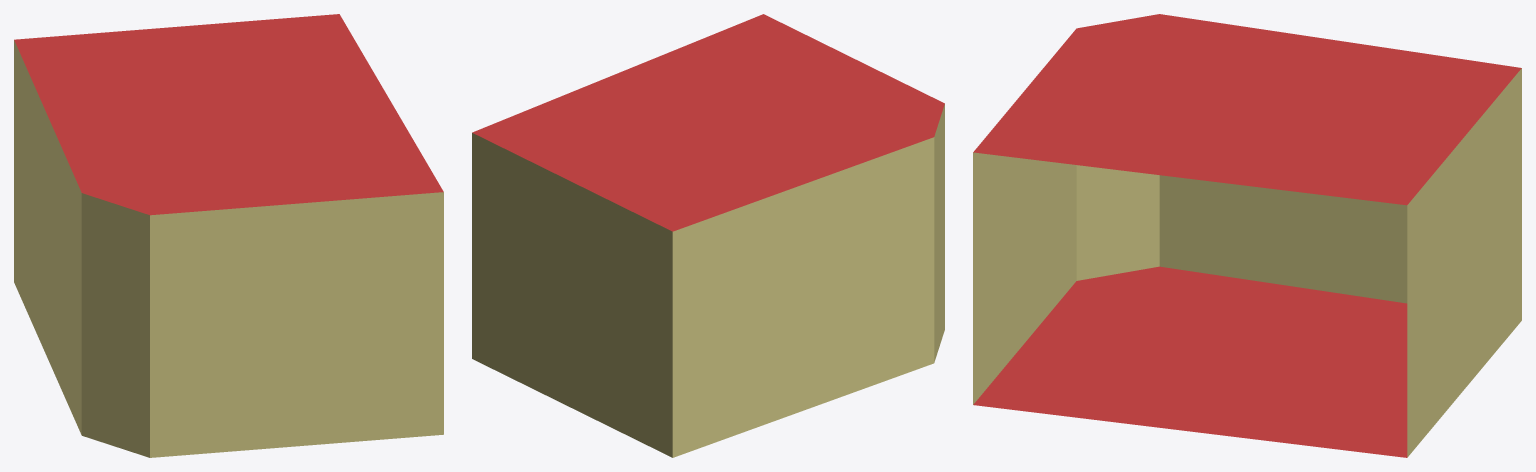
3 views of the same model, side by side, from view 1: azimuth 30°, elevation 25°; view 2: azimuth 150°, elevation 25°; view 3: azimuth 270°, elevation 25° (orthographic). The views are drawn at different scales.
Size of the model in its own units: 8.73 by 10.58 by 5.38.
